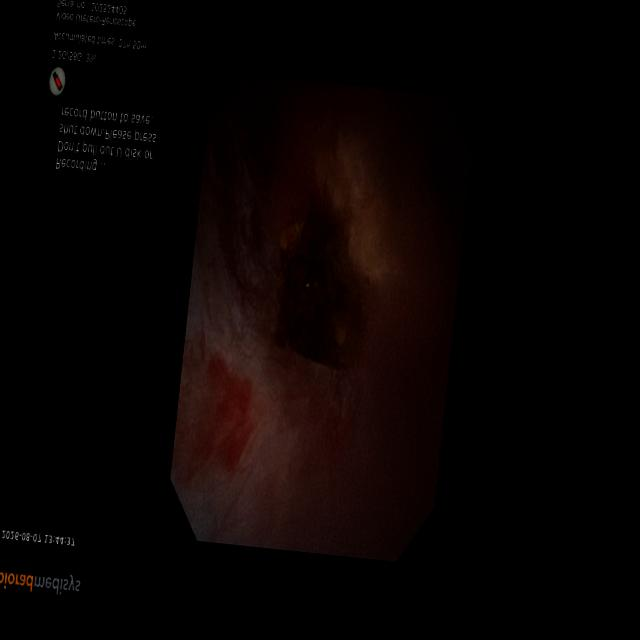stone-new: (275, 214, 361, 369)
